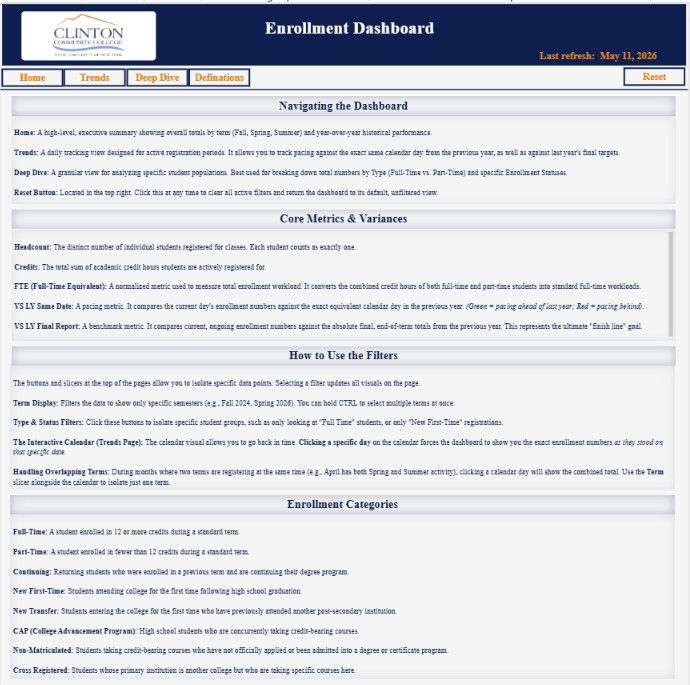

The page's visual inventory and layout, read from the dashboard file:
{"tool":"powerbi","page":{"name":"Definitions","canvas":[1280,1290],"ordinal":3},"visuals":[{"type":"shape","box":[0,0,1280,121],"z":0},{"type":"textbox","box":[486.9,24.4,371.6,51],"z":1000},{"type":"textbox","box":[1111.4,84.3,165.3,33.3],"z":2000},{"type":"textbox","box":[990.5,84.3,120.9,33.3],"z":3000},{"type":"image","box":[40,16,250.7,91],"z":4000},{"type":"actionButton","title":"Home","box":[1.1,122,115.4,34.4],"z":5000},{"type":"actionButton","title":"Home","box":[117,122,116,34],"z":6000},{"type":"actionButton","title":"Home","box":[234,122,115,34],"z":7000},{"type":"actionButton","title":"Home","box":[350,122,115,34],"z":8000},{"type":"actionButton","title":"Home","box":[1160.2,120.9,115.4,34.4],"z":9000},{"type":"shape","box":[0,155.3,1280.2,15.3],"z":10000},{"type":"textbox","box":[21,175,1237,36],"z":11000},{"type":"textbox","box":[21,211,1237,165],"z":12000},{"type":"textbox","box":[20,385,1237,37],"z":13000},{"type":"textbox","box":[21,422,1237,208],"z":14000},{"type":"textbox","box":[18,918,1237,35],"z":15000},{"type":"textbox","box":[19,953,1237,306],"z":16000},{"type":"textbox","box":[20,640,1237,36],"z":17000},{"type":"textbox","box":[19,676,1237,232],"z":18000}]}

Visuals, with their boxes in screenshot pixels (x1, y1, x2, y2), scaled from the page's 1280x1290 canvas onto the 690x685 screenshot:
shape: <region>0, 0, 689, 64</region>
textbox: <region>262, 13, 463, 40</region>
textbox: <region>599, 45, 688, 62</region>
textbox: <region>534, 45, 599, 62</region>
image: <region>22, 8, 157, 57</region>
"Home" actionButton: <region>1, 65, 63, 83</region>
"Home" actionButton: <region>63, 65, 126, 83</region>
"Home" actionButton: <region>126, 65, 188, 83</region>
"Home" actionButton: <region>189, 65, 251, 83</region>
"Home" actionButton: <region>625, 64, 688, 82</region>
shape: <region>0, 82, 689, 91</region>
textbox: <region>11, 93, 678, 112</region>
textbox: <region>11, 112, 678, 200</region>
textbox: <region>11, 204, 678, 224</region>
textbox: <region>11, 224, 678, 335</region>
textbox: <region>10, 487, 677, 506</region>
textbox: <region>10, 506, 677, 669</region>
textbox: <region>11, 340, 678, 359</region>
textbox: <region>10, 359, 677, 482</region>
